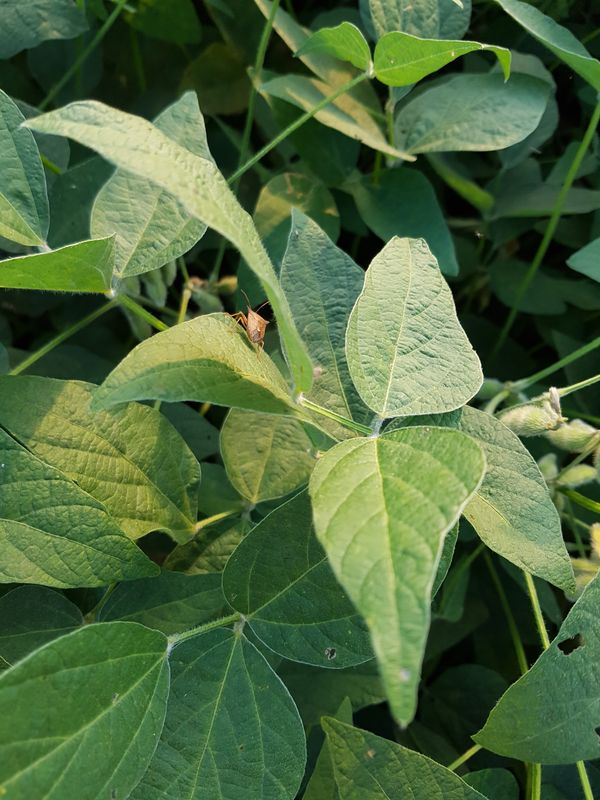Euschistus_heros_adulto: (223, 290, 280, 357)
